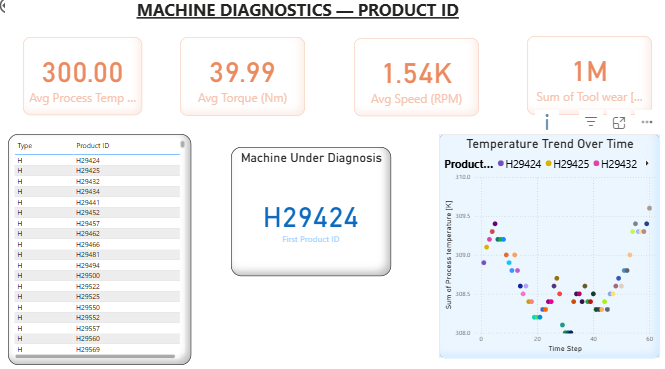

What the dashboard file says about the page in this screenshot:
{"tool":"powerbi","page":{"name":"Machine Diagnostics","canvas":[1280,720],"ordinal":2},"visuals":[{"type":"actionButton","box":[0,0,100,40],"z":0},{"type":"tableEx","fields":{"Values":["Machine_data.Type","Machine_data.Product ID"]},"box":[21,264.8,348.6,440],"z":1},{"type":"textbox","box":[15,0,1115,66.7],"z":2},{"type":"card","title":"Machine Under Diagnosis","fields":{"Values":["Min(Machine_data.Product ID)"]},"box":[445.7,289.5,304.8,245.7],"z":3},{"type":"card","fields":{"Values":["Machine_data.Avg Process Temp (K)"]},"box":[49.5,80,226.7,148.6],"z":4},{"type":"card","fields":{"Values":["Machine_data.Avg Speed (RPM)"]},"box":[680,81.9,238.1,148.6],"z":5},{"type":"card","fields":{"Values":["Machine_data.Avg Torque (Nm)"]},"box":[348.6,80,238.1,150.5],"z":6},{"type":"card","fields":{"Values":["Sum(Machine_data.Tool wear [min])"]},"box":[1009.5,78.1,238.1,150.5],"z":7},{"type":"lineChart","title":"Temperature Trend Over Time","fields":{"Category":["Machine_data.Time Step"],"Y":["Sum(Machine_data.Process temperature [K])"],"Series":["Machine_data.Product ID"]},"box":[841.9,264.8,421,426.7],"z":8}]}

Visuals, with their boxes in screenshot pixels (x1, y1, x2, y2), scaled from the page's 1280x720 canvas onto the 665x369 screenshot:
actionButton: (0, 0, 52, 20)
tableEx - Machine_data.Type x Machine_data.Product ID: (11, 136, 192, 361)
textbox: (8, 0, 587, 34)
"Machine Under Diagnosis" card: (232, 148, 390, 274)
card - Machine_data.Avg Process Temp (K): (26, 41, 143, 117)
card - Machine_data.Avg Speed (RPM): (353, 42, 477, 118)
card - Machine_data.Avg Torque (Nm): (181, 41, 305, 118)
card - Sum(Machine_data.Tool wear [min]): (524, 40, 648, 117)
"Temperature Trend Over Time" lineChart: (437, 136, 656, 354)
